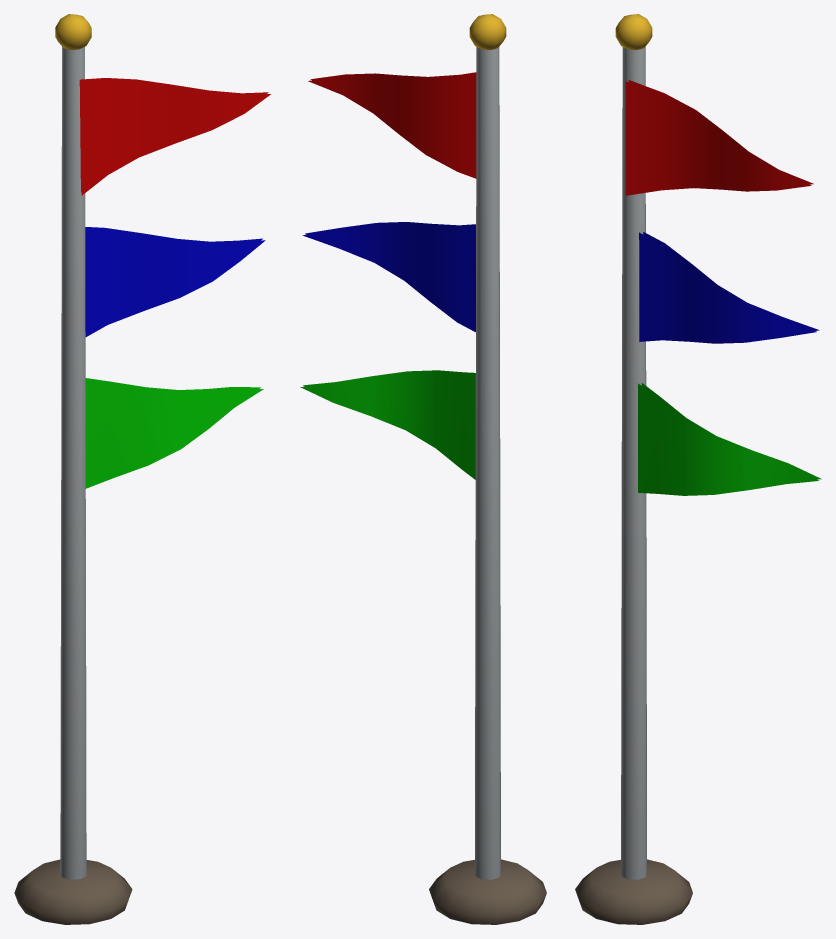
File: fe-pennantpole.glb
The picture shows the model from 3 angles, left to right: view 1: azimuth 30°, elevation 25°; view 2: azimuth 150°, elevation 25°; view 3: azimuth 330°, elevation 25°; orthographic projection.
Visible parts, largest first — view 1: fe-pennantpole; view 2: fe-pennantpole; view 3: fe-pennantpole.
Boxes of the visible parts, x1=… form: fe-pennantpole: x1=14, y1=14, x2=270, y2=924; fe-pennantpole: x1=300, y1=14, x2=546, y2=924; fe-pennantpole: x1=575, y1=14, x2=821, y2=924.
Bounding box in the file's own units: 0.7 × 2.48 × 0.2925.
